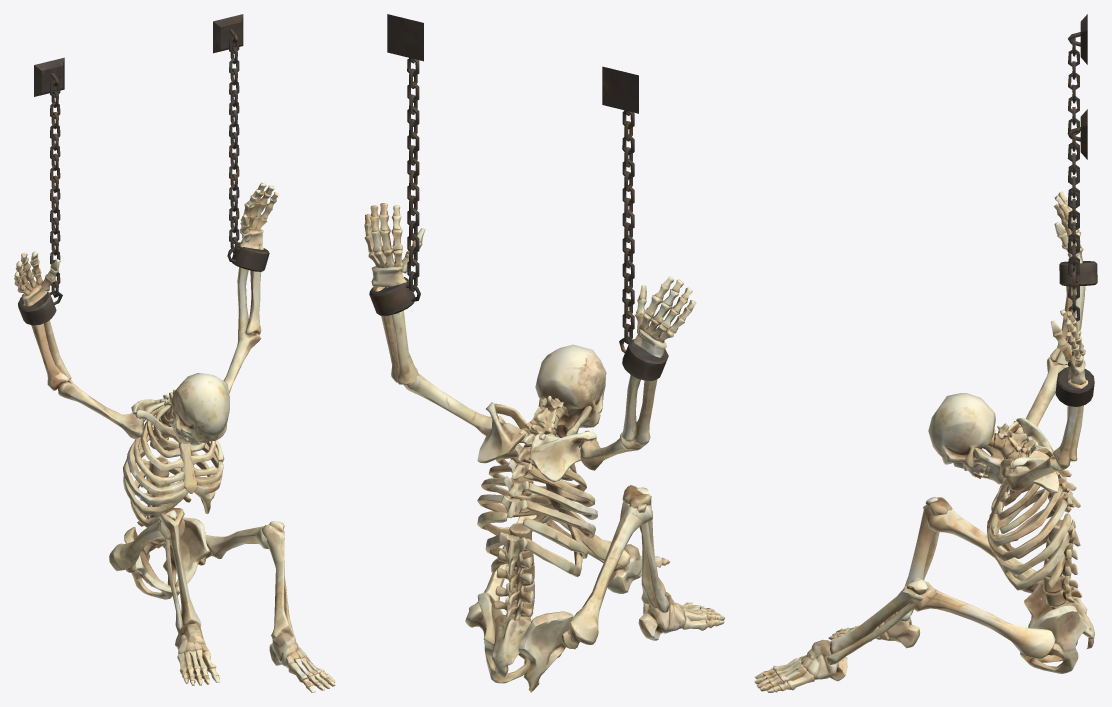
The picture shows the model from 3 angles, left to right: view 1: azimuth 30°, elevation 25°; view 2: azimuth 150°, elevation 25°; view 3: azimuth 270°, elevation 25°; orthographic projection. The views are drawn at different scales.
Visible parts, largest first — view 1: SM_Skeleton_Hanging_01_v1_LOD0; view 2: SM_Skeleton_Hanging_01_v1_LOD0; view 3: SM_Skeleton_Hanging_01_v1_LOD0.
Part boxes in pixels (bbox=[...]): SM_Skeleton_Hanging_01_v1_LOD0: bbox=[14, 14, 335, 692]; SM_Skeleton_Hanging_01_v1_LOD0: bbox=[364, 14, 725, 692]; SM_Skeleton_Hanging_01_v1_LOD0: bbox=[754, 14, 1097, 692].
Bounding box in the file's own units: 1.01 × 1.97 × 1.03.
Materials: 2 (2 with a texture image).
